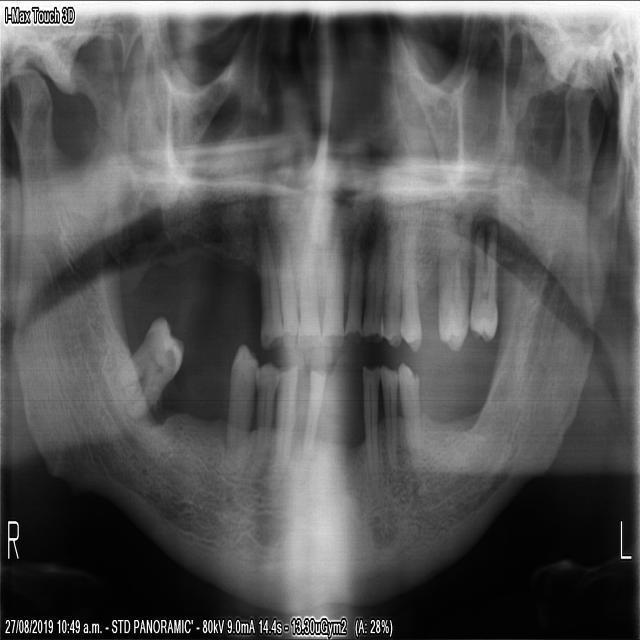LCD: (394, 356, 423, 489)
LCU: (360, 218, 383, 349)
LID: (360, 361, 382, 510), (377, 359, 396, 479)
LIU: (318, 216, 344, 352), (341, 221, 363, 348)
LMU: (434, 208, 472, 353), (467, 218, 499, 345)
LPMU: (397, 203, 420, 357), (376, 214, 401, 353)
RCD: (250, 356, 279, 471)
RID: (292, 362, 325, 498), (270, 363, 298, 485)
RIU: (294, 215, 320, 354), (276, 222, 298, 349)
RMD: (105, 311, 184, 425)
RPMD: (221, 340, 258, 492)
